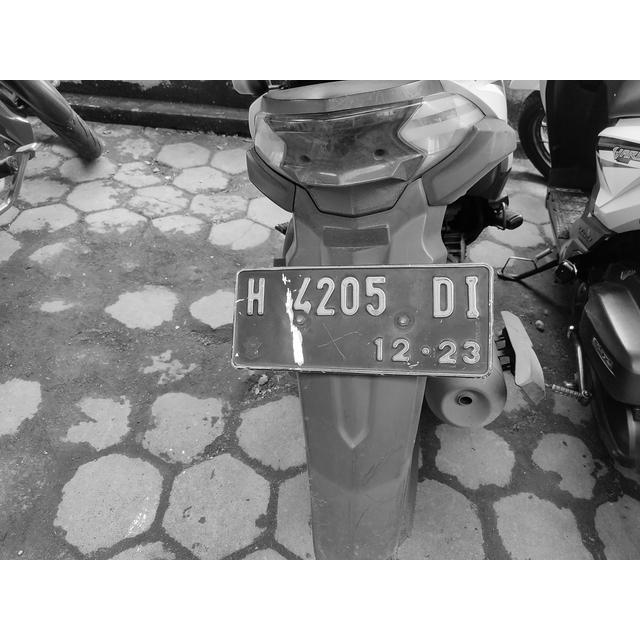license: (242, 271, 488, 370)
